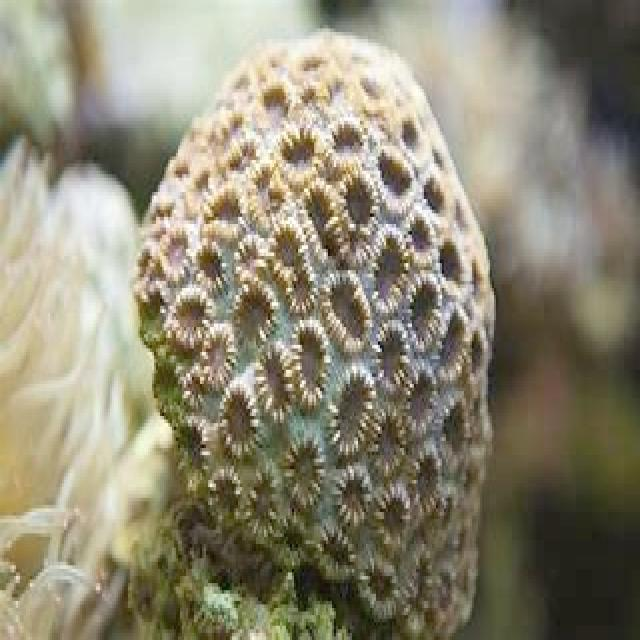Coral: (128, 25, 496, 640)
